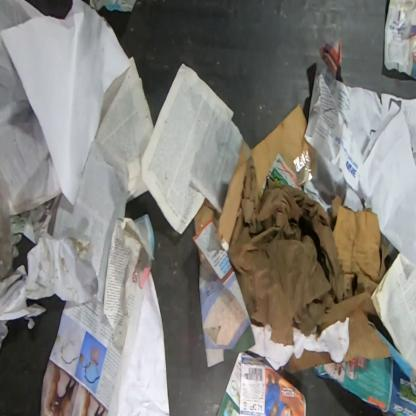cardboard: (215, 103, 314, 245), (313, 329, 415, 415), (332, 204, 390, 285), (384, 0, 415, 81), (281, 348, 335, 374)
soft_plastic: (0, 171, 14, 283)
